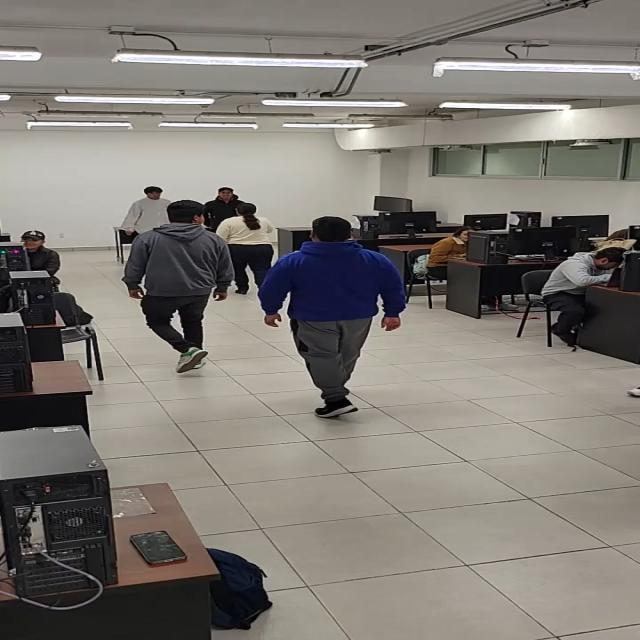Persona: (257, 215, 407, 419), (121, 198, 237, 374), (216, 202, 277, 296), (121, 186, 176, 238), (204, 186, 244, 231)
